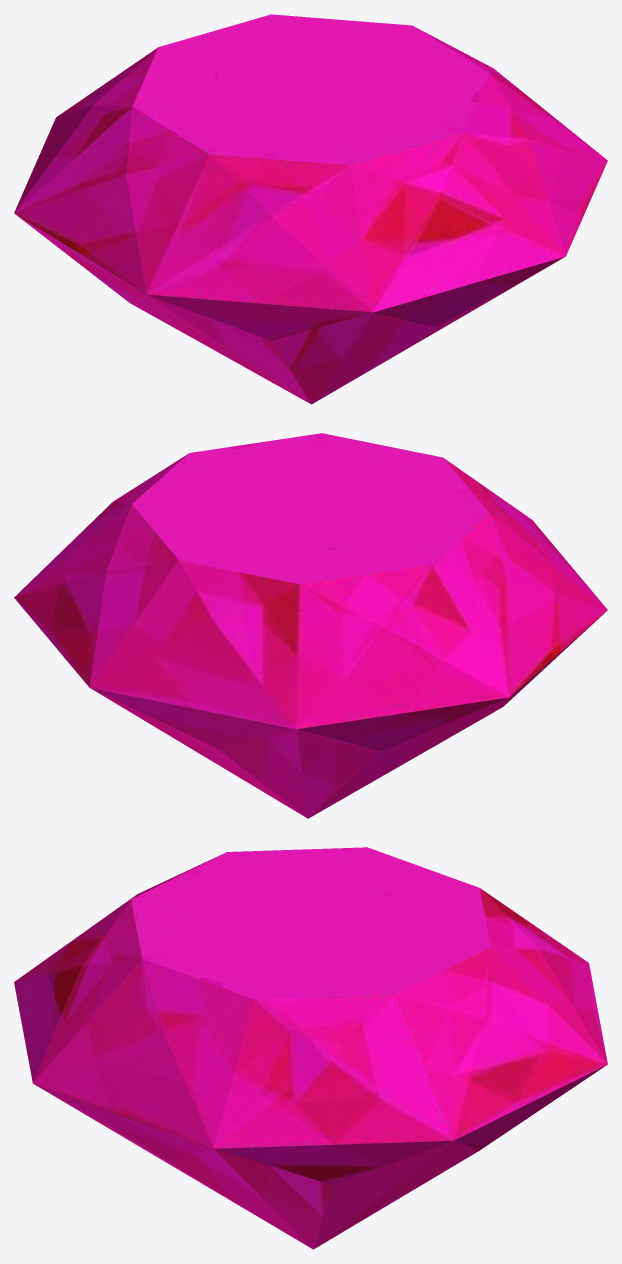
File: xSSWSW.fbx
The picture shows the model from 3 angles, top to bottom: view 1: azimuth 30°, elevation 25°; view 2: azimuth 150°, elevation 25°; view 3: azimuth 270°, elevation 25°; orthographic projection. The views are drawn at different scales.
Parts seen in each view (by area): view 1: Pink_0; view 2: Pink_0; view 3: Pink_0.
Boxes of the visible parts, x1,y1,x2,y2 form: Pink_0: [14, 14, 607, 404]; Pink_0: [14, 433, 607, 818]; Pink_0: [14, 847, 607, 1249].
Bounding box in the file's own units: 190 × 115 × 190.
